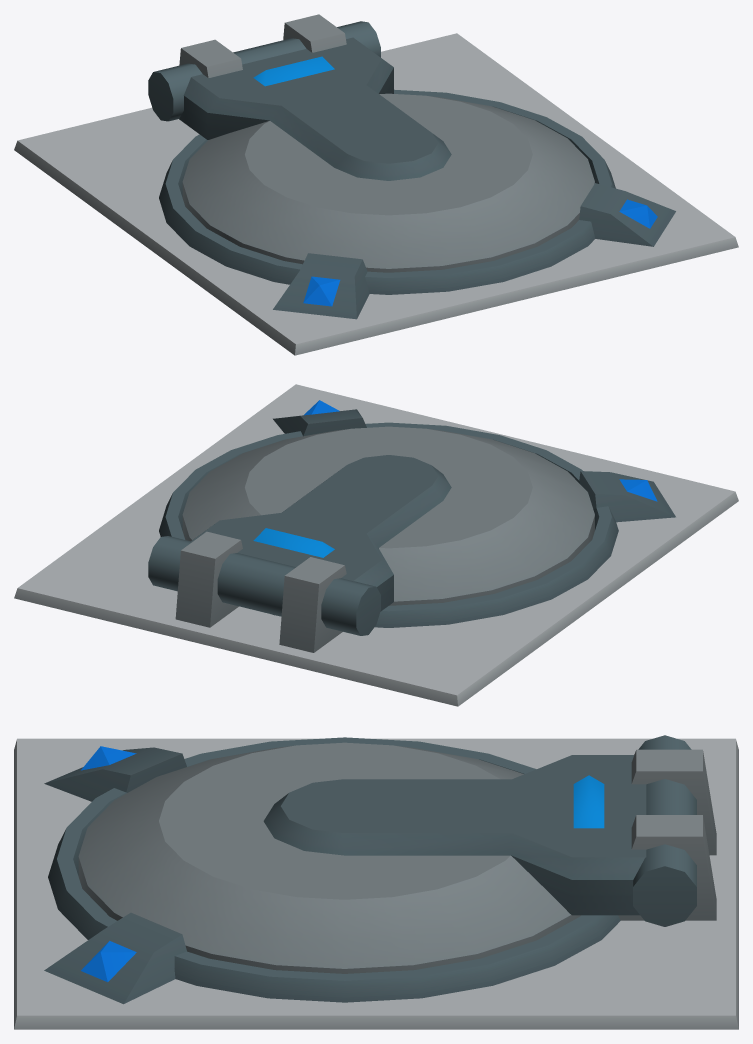
Rendered from Hatch_010.glb.
3 views of the same model, one above another, from view 1: azimuth 30°, elevation 25°; view 2: azimuth 150°, elevation 25°; view 3: azimuth 270°, elevation 25° (orthographic). The views are drawn at different scales.
Parts seen in each view (by area): view 1: Hatch_010; view 2: Hatch_010; view 3: Hatch_010.
Boxes of the visible parts, box(x1,y1,x2,y2) form: Hatch_010: box(14, 14, 738, 355); Hatch_010: box(14, 384, 738, 706); Hatch_010: box(14, 735, 738, 1029).
Size of the model in its own units: 0.9947 by 0.1609 by 1.09.
Materials: 2 (2 with a texture image).
